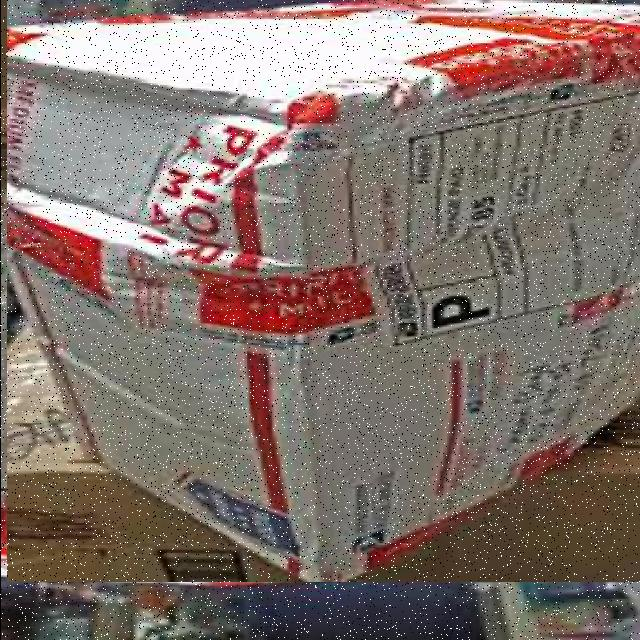defect: (6, 0, 639, 582)
